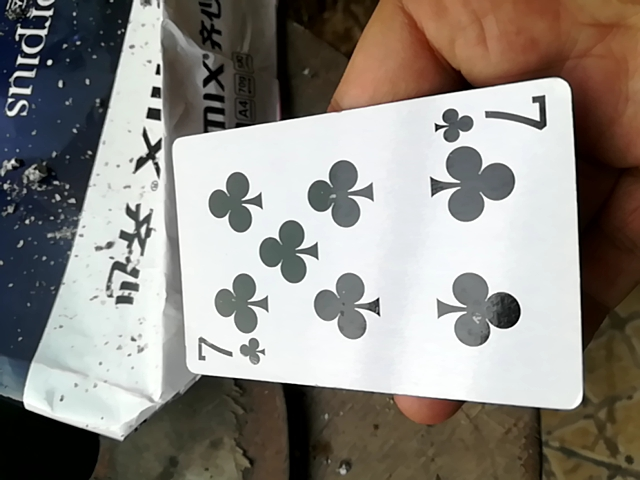mh 7: (166, 79, 588, 410)
